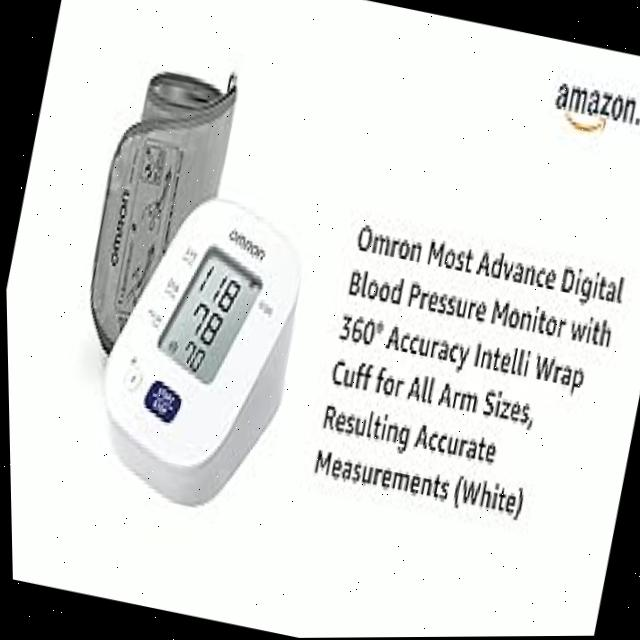dia: (172, 293, 232, 353)
pul: (165, 335, 210, 380)
ssd: (149, 243, 264, 385)
sys: (185, 256, 251, 319)
